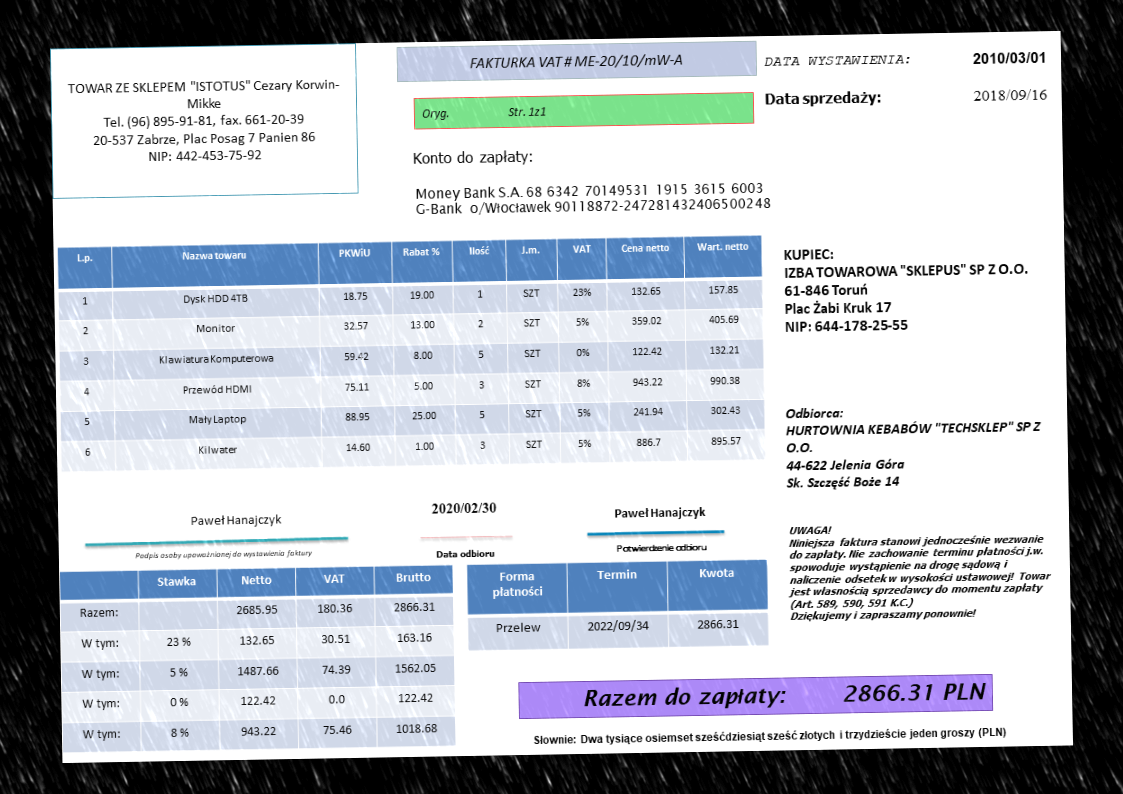Table: (55, 232, 766, 473), (60, 564, 457, 754), (466, 558, 770, 652)
TextBox: (787, 518, 1056, 624), (66, 77, 342, 165), (783, 399, 1042, 492), (781, 240, 1031, 336), (580, 677, 990, 714), (412, 180, 774, 217), (531, 723, 1009, 750), (468, 51, 687, 73), (763, 50, 913, 71), (132, 546, 313, 563), (410, 147, 534, 169), (763, 88, 884, 110), (420, 105, 548, 122), (612, 503, 707, 524), (188, 509, 283, 529), (969, 48, 1046, 68), (972, 86, 1051, 105), (613, 540, 710, 555), (430, 499, 497, 518), (433, 547, 496, 560)
